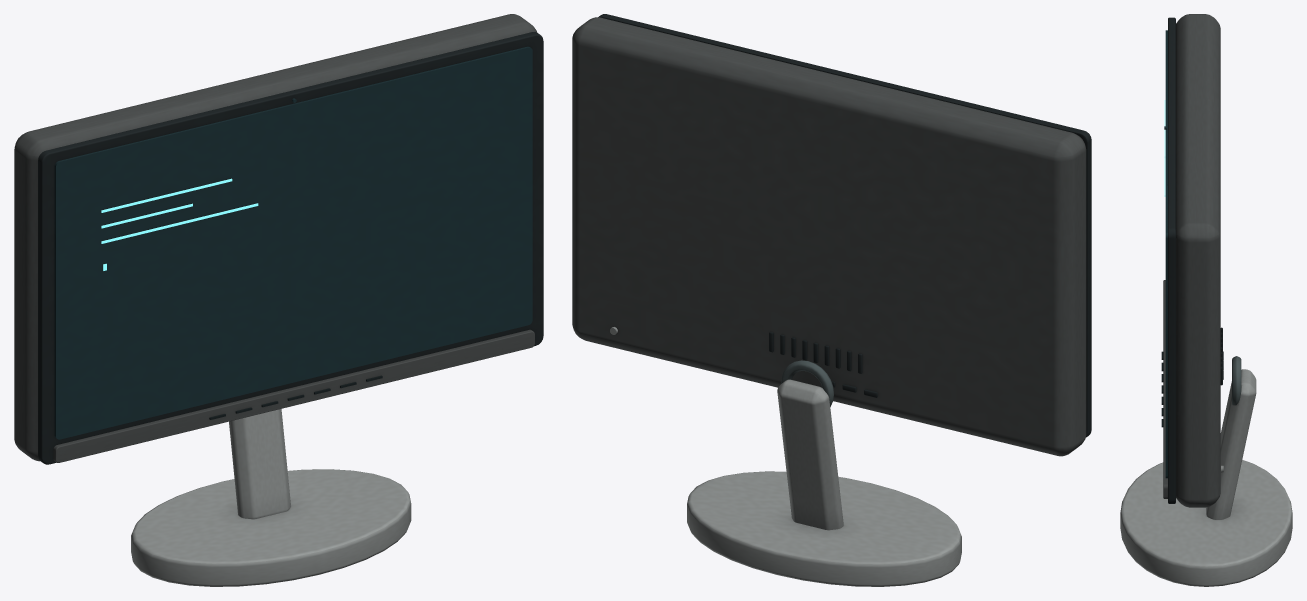
Rendered from monoblock_pc.glb.
3 views of the same model, side by side, from view 1: azimuth 30°, elevation 25°; view 2: azimuth 150°, elevation 25°; view 3: azimuth 270°, elevation 25° (orthographic). The views are drawn at different scales.
Visible parts, largest first — view 1: monoblock_pc_static_0, monoblock_pc_static_1; view 2: monoblock_pc_static_0; view 3: monoblock_pc_static_0.
Part boxes in pixels (left/top/right/bottom): monoblock_pc_static_0: left=14, top=14, right=543, bottom=586; monoblock_pc_static_1: left=101, top=178, right=258, bottom=270; monoblock_pc_static_0: left=572, top=14, right=1091, bottom=586; monoblock_pc_static_0: left=1120, top=14, right=1292, bottom=586.
Bounding box in the file's own units: 0.588 × 0.5135 × 0.194.
Materials: 2 (1 with a texture image).
